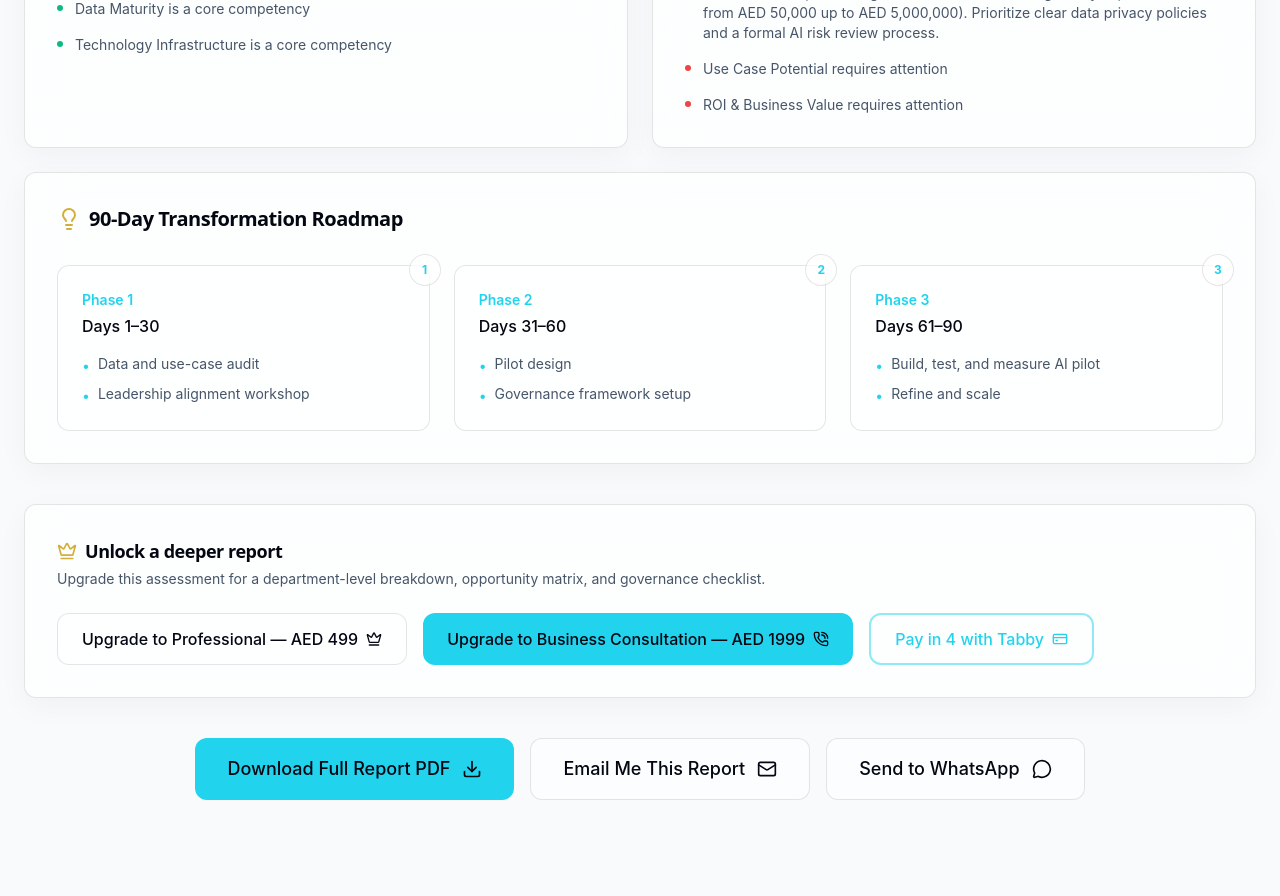
ScoreDashboard › submits the email-me form and shows a confirmation
The image size is (1280, 896).
(page scrolled)
Click the button "Email Me This Report": (670, 768) left=530, top=738, right=810, bottom=800
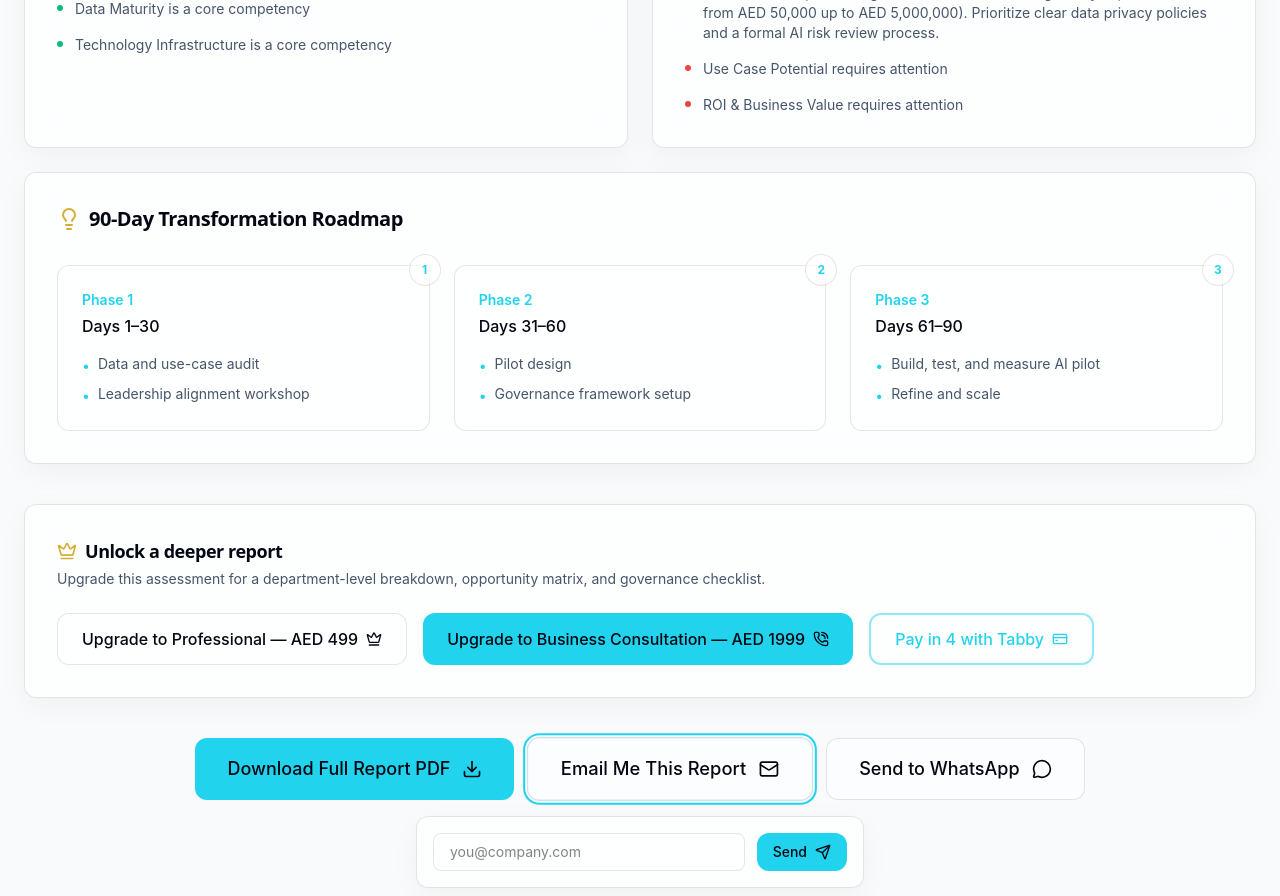
In the field with placeholder "you@company.com": (589, 852) left=433, top=832, right=745, bottom=870, type "jane@example.com"
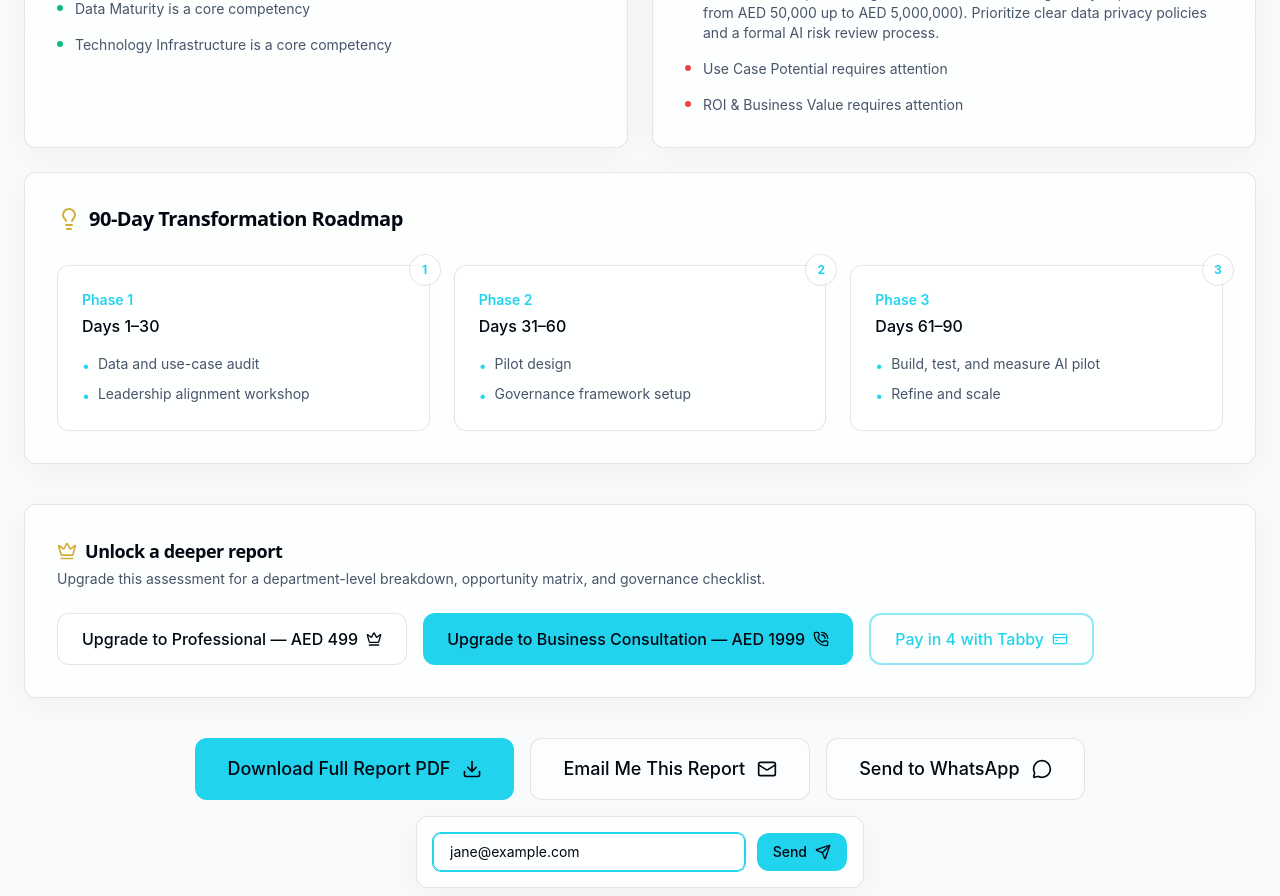
Click the button "Send": (802, 852) left=757, top=832, right=847, bottom=870
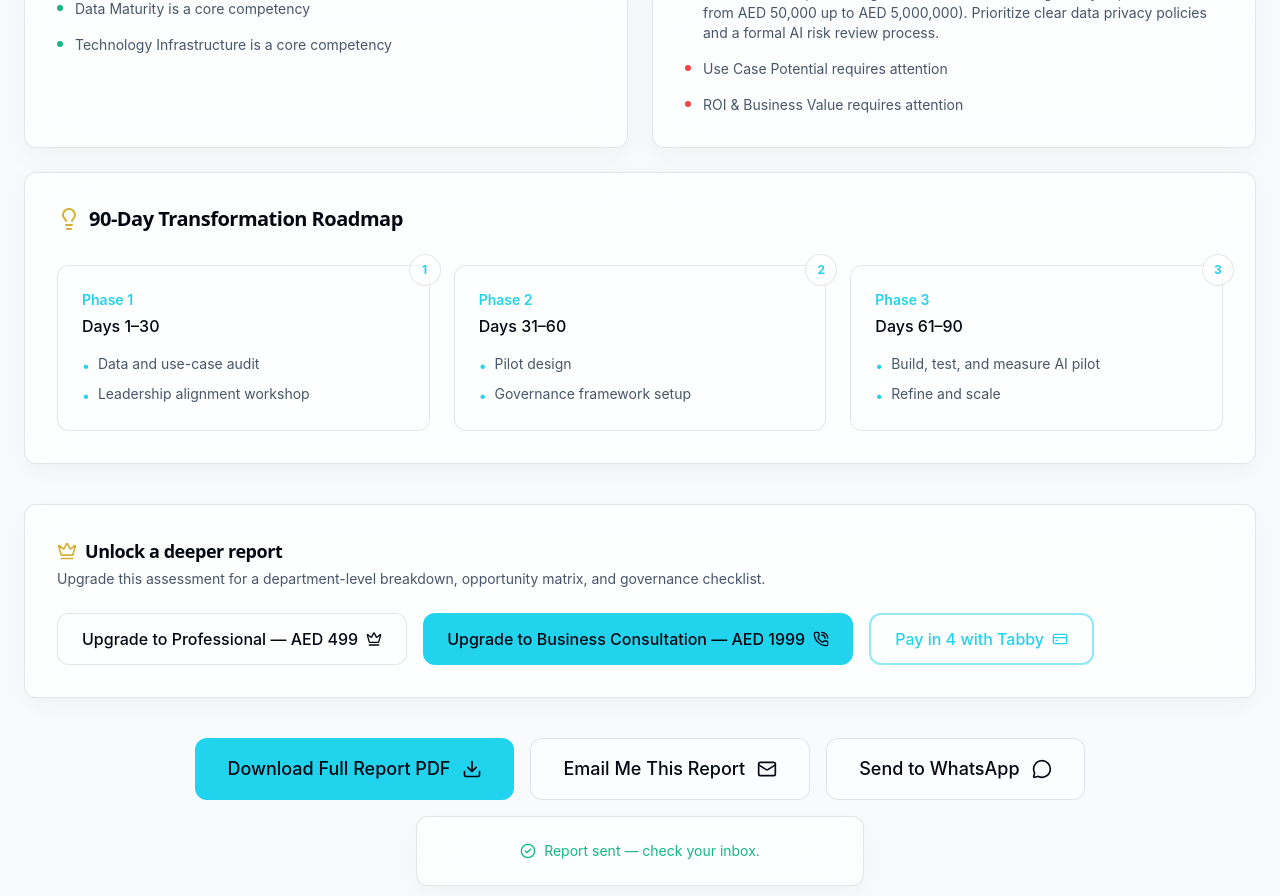
Check: the text "Report sent — check your inbox." is shown, box left=520, top=842, right=760, bottom=858
